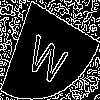W: (24, 25, 72, 87)
